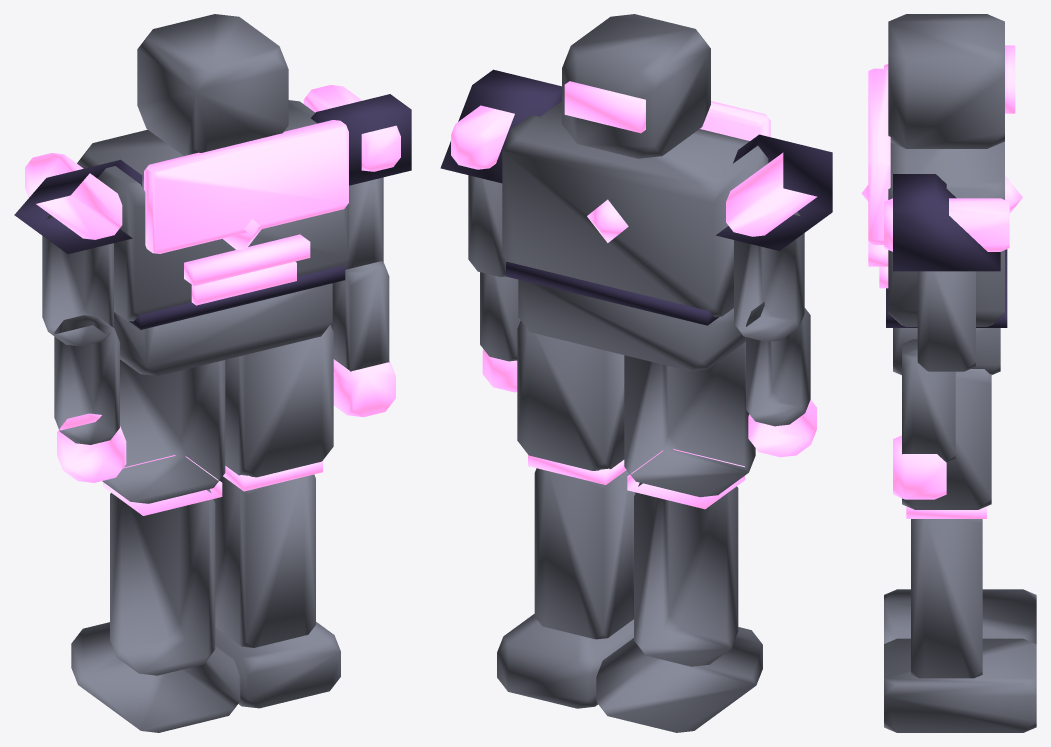
The model's file is CHR_Runner_Rook.glb.
3 views of the same model, side by side, from view 1: azimuth 30°, elevation 25°; view 2: azimuth 150°, elevation 25°; view 3: azimuth 270°, elevation 25° (orthographic).
Parts seen in each view (by area): view 1: backplate, head, CHR_Runner_Rook_p3, CHR_Runner_Rook_p2, chest, CHR_Runner_Rook_p4, CHR_Runner_Rook_p5, pelvis, CHR_Runner_Rook_p1, CHR_Runner_Rook_p19, CHR_Runner_Rook_p0, CHR_Runner_Rook_p17 (+13 smaller); view 2: chest, CHR_Runner_Rook_p3, CHR_Runner_Rook_p5, CHR_Runner_Rook_p2, head, CHR_Runner_Rook_p4, pelvis, CHR_Runner_Rook_p1, CHR_Runner_Rook_p0, CHR_Runner_Rook_p17, CHR_Runner_Rook_p19, CHR_Runner_Rook_p15 (+13 smaller); view 3: head, CHR_Runner_Rook_p0, CHR_Runner_Rook_p2, chest, CHR_Runner_Rook_p14, CHR_Runner_Rook_p4, CHR_Runner_Rook_p16, CHR_Runner_Rook_p18, CHR_Runner_Rook_p1, backplate, spike_r, CHR_Runner_Rook_p20 (+6 smaller).
Part boxes in pixels (bbox=[...]): backplate: bbox=[144, 120, 348, 253]; head: bbox=[137, 14, 288, 155]; CHR_Runner_Rook_p3: bbox=[110, 489, 215, 675]; CHR_Runner_Rook_p2: bbox=[213, 474, 315, 647]; chest: bbox=[77, 100, 348, 321]; CHR_Runner_Rook_p4: bbox=[225, 325, 333, 477]; CHR_Runner_Rook_p5: bbox=[102, 359, 225, 503]; pelvis: bbox=[114, 283, 332, 375]; CHR_Runner_Rook_p1: bbox=[71, 622, 240, 732]; CHR_Runner_Rook_p19: bbox=[54, 315, 119, 444]; CHR_Runner_Rook_p0: bbox=[215, 622, 340, 708]; CHR_Runner_Rook_p17: bbox=[42, 214, 113, 346]; chest: bbox=[502, 101, 768, 317]; CHR_Runner_Rook_p3: bbox=[634, 482, 738, 666]; CHR_Runner_Rook_p5: bbox=[624, 342, 755, 497]; CHR_Runner_Rook_p2: bbox=[534, 468, 635, 639]; head: bbox=[562, 14, 710, 158]; CHR_Runner_Rook_p4: bbox=[517, 321, 624, 470]; pelvis: bbox=[518, 279, 745, 371]; CHR_Runner_Rook_p1: bbox=[596, 627, 762, 732]; CHR_Runner_Rook_p0: bbox=[497, 614, 633, 708]; CHR_Runner_Rook_p17: bbox=[734, 212, 804, 341]; CHR_Runner_Rook_p19: bbox=[746, 302, 810, 426]; CHR_Runner_Rook_p15: bbox=[716, 134, 832, 250]; head: bbox=[888, 14, 1004, 148]; CHR_Runner_Rook_p0: bbox=[884, 638, 1036, 732]; CHR_Runner_Rook_p2: bbox=[911, 519, 982, 678]; chest: bbox=[888, 141, 1004, 326]; CHR_Runner_Rook_p14: bbox=[893, 174, 1000, 271]; CHR_Runner_Rook_p4: bbox=[902, 369, 991, 509]; CHR_Runner_Rook_p16: bbox=[917, 271, 975, 371]; CHR_Runner_Rook_p18: bbox=[902, 339, 955, 462]; CHR_Runner_Rook_p1: bbox=[884, 589, 1036, 643]; backplate: bbox=[868, 68, 890, 244]; spike_r: bbox=[884, 198, 1009, 251]; CHR_Runner_Rook_p20: bbox=[893, 435, 946, 499].
Bounding box in the file's own units: 0.888 × 1.6 × 0.39.
